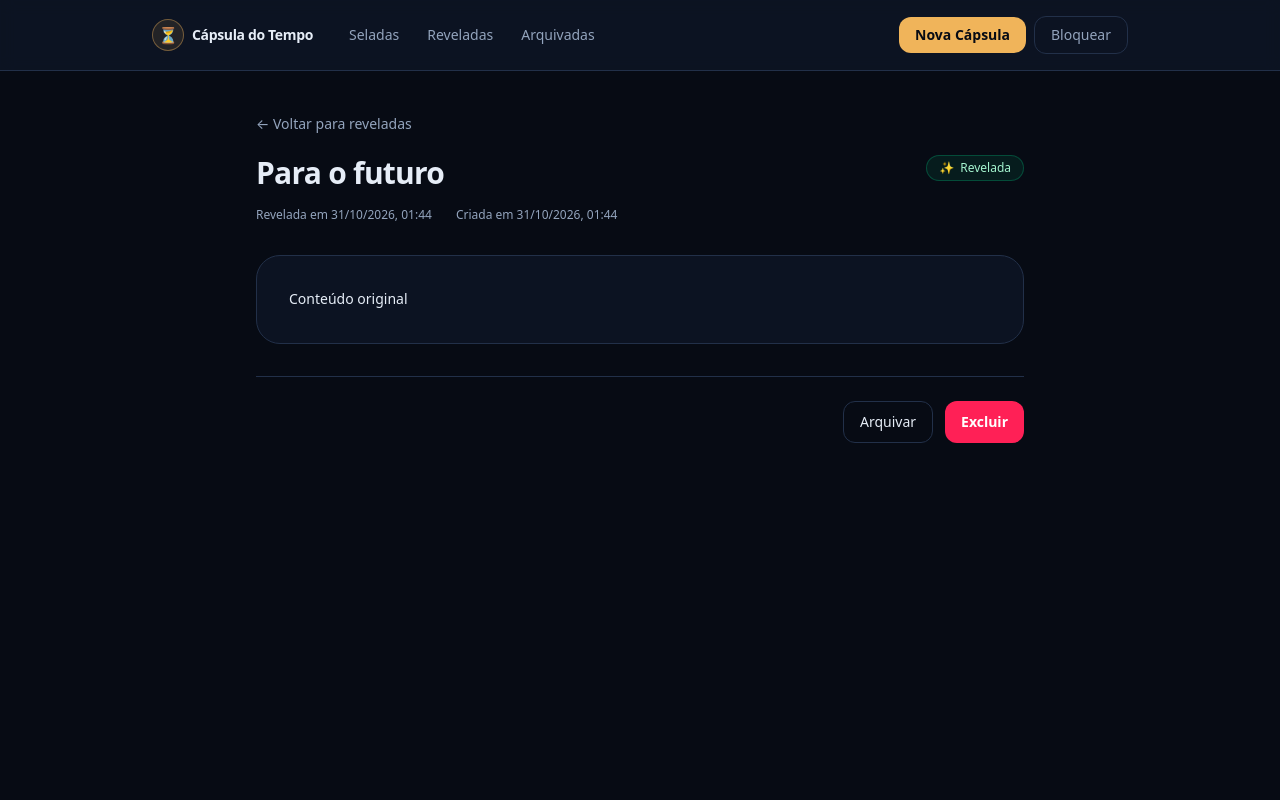
Test case: CapsuleDetail › exclui a cápsula e volta para a lista
The width and height of the screenshot is (1280, 800).
Expected: the heading "Para o futuro" is shown, [256,155,444,191]
Click the button "Excluir".
click(984, 422)  # box [945,401,1024,443]
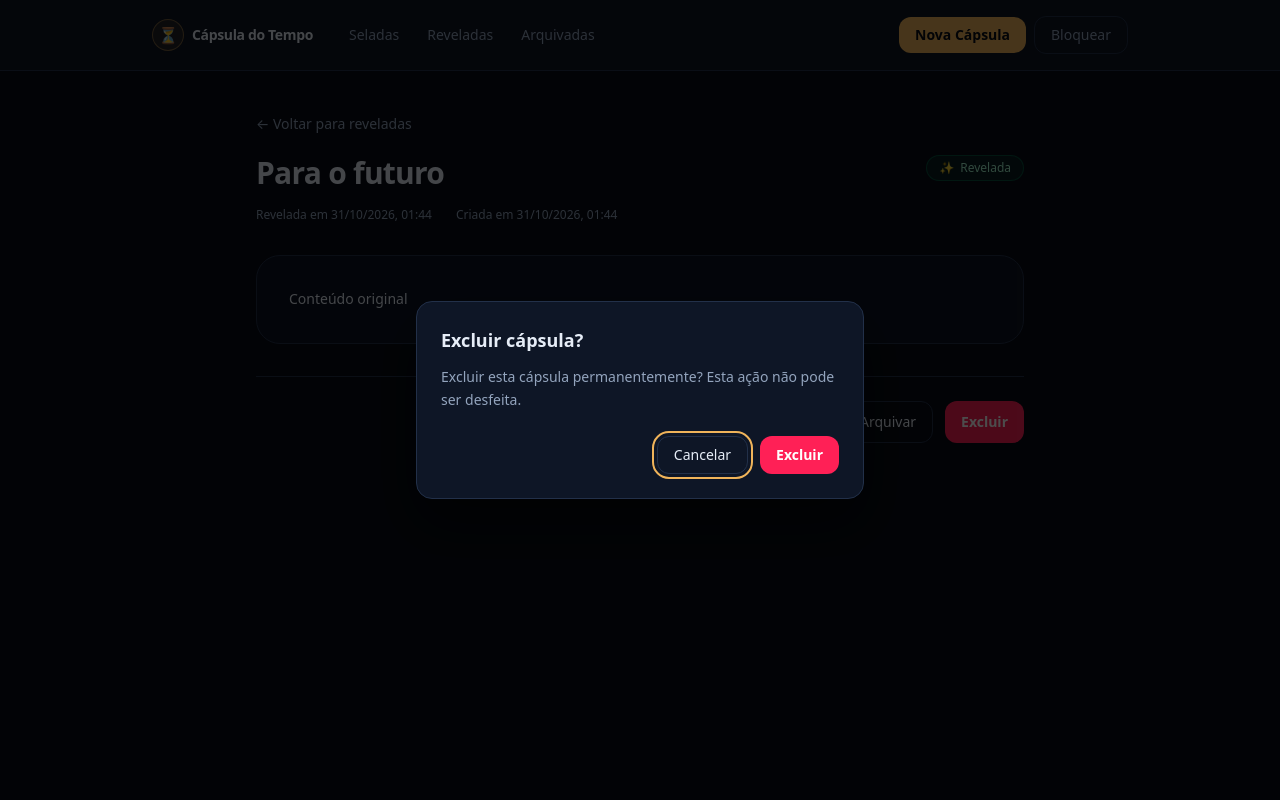
Result: the text "Excluir esta cápsula permanentemente? Esta ação não pode ser desfeita." is shown at [441,366,839,412]
Click the button "Excluir".
click(800, 455)  # box [760,436,839,474]
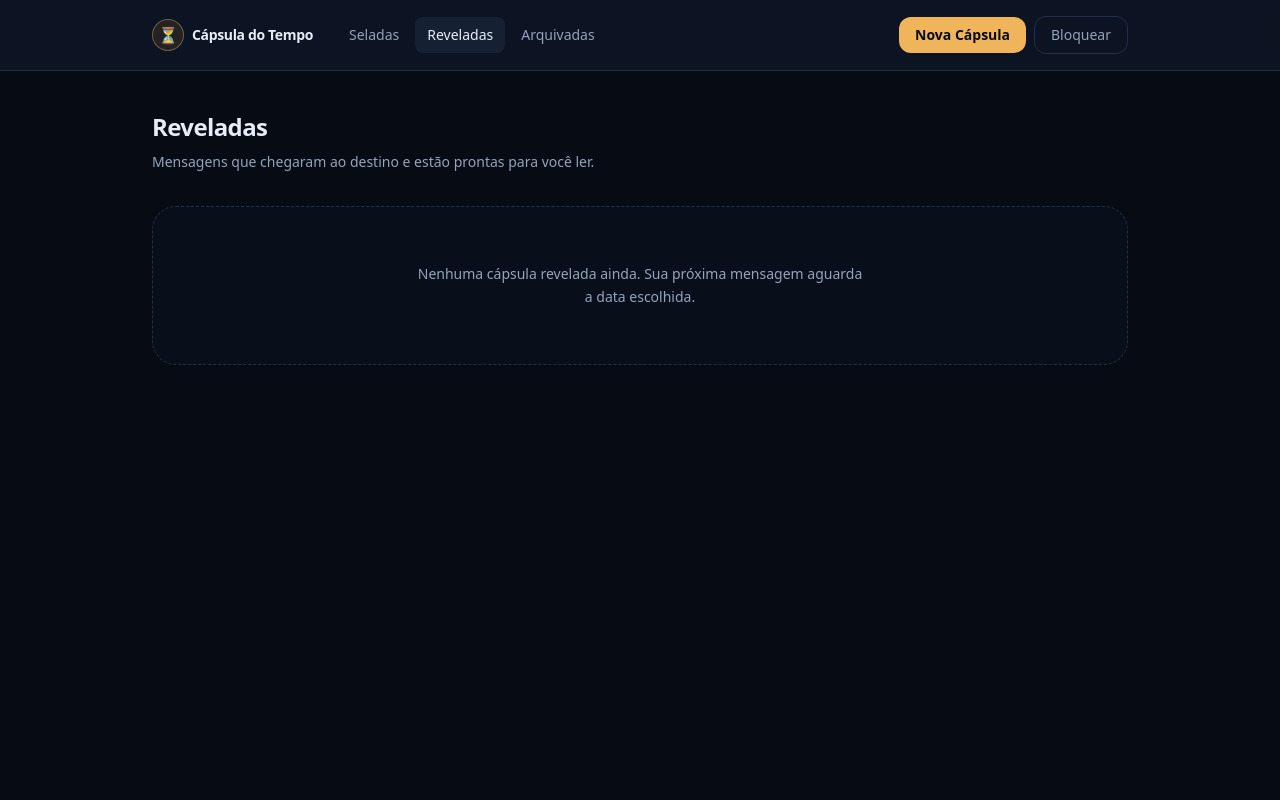
Result: the text "Nenhuma cápsula revelada ainda. Sua próxima mensagem aguarda a data escolhida." is shown at [416,263,864,308]
